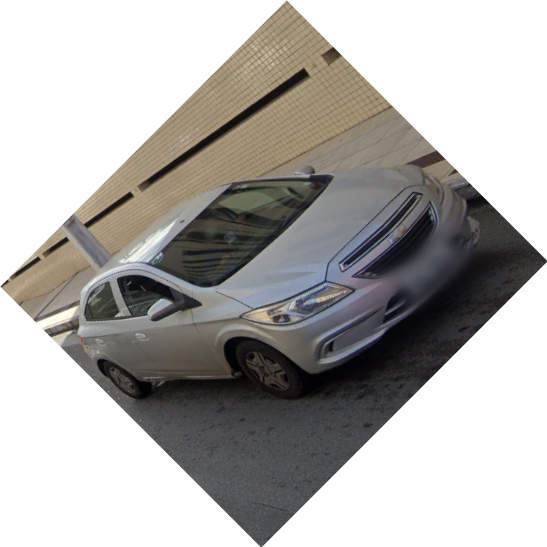car: (76, 168, 482, 398)
